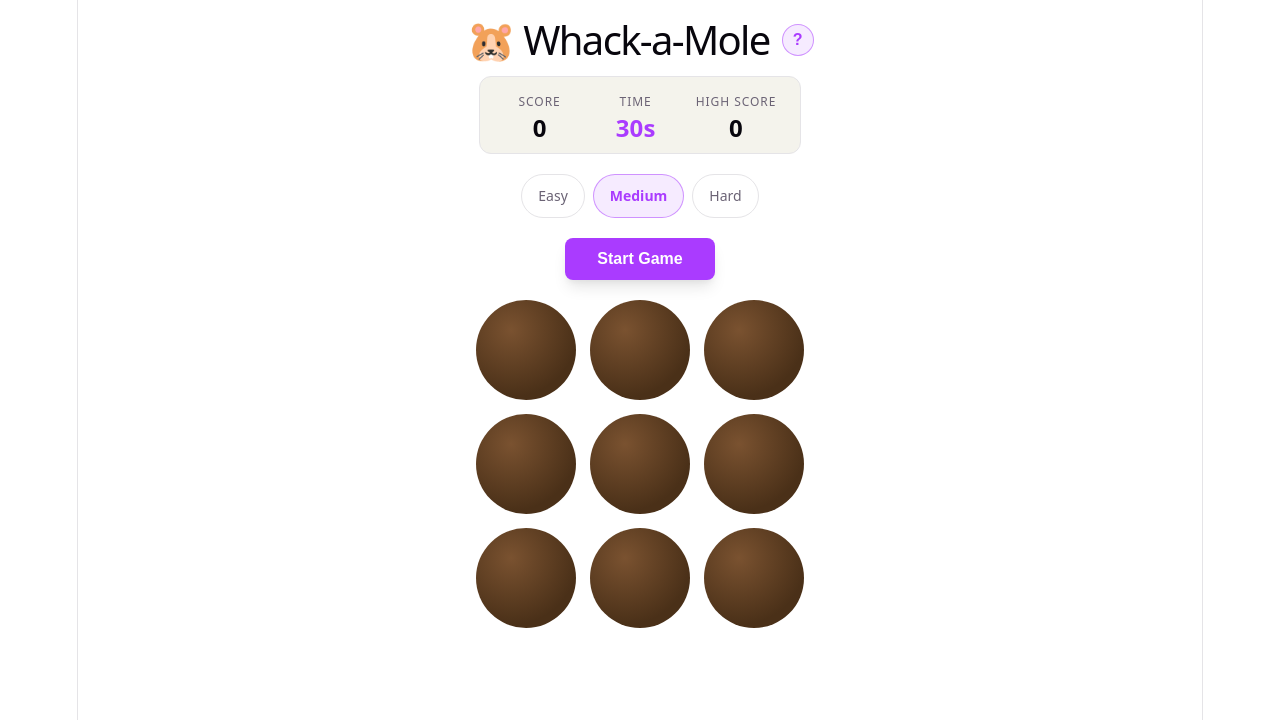
App › scores a point when a visible mole is whacked
Click the button "Start Game": (640, 259) [565,238,715,280]
Wait 1000 ms
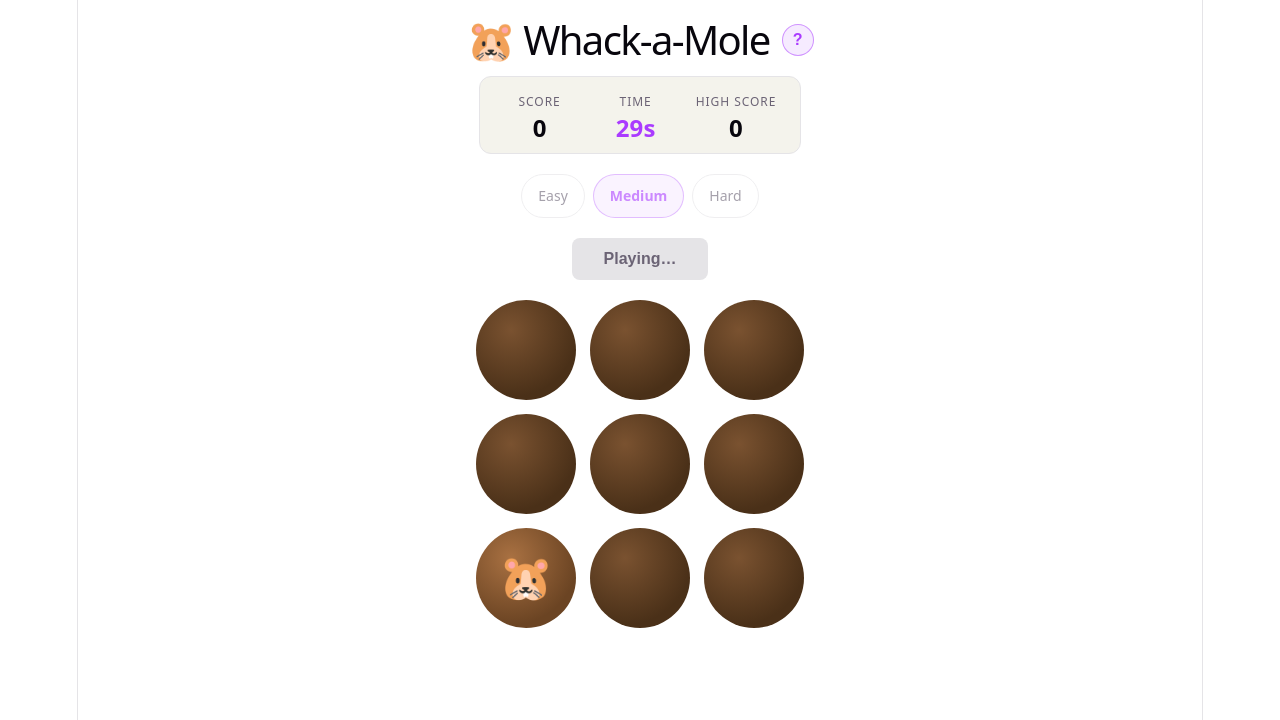
Click the button with class "is-up": (526, 578) [476,528,576,628]
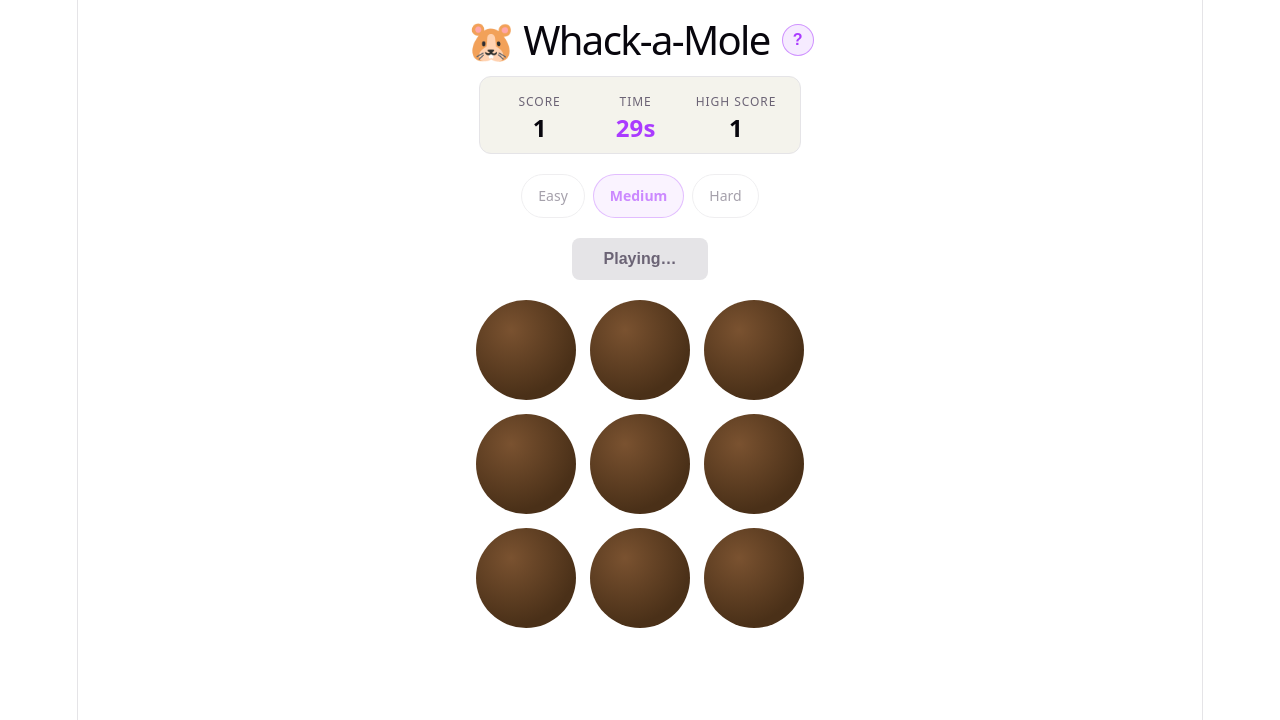
Expected: the text with test id "score" reads "1", [533,111,547,144]
